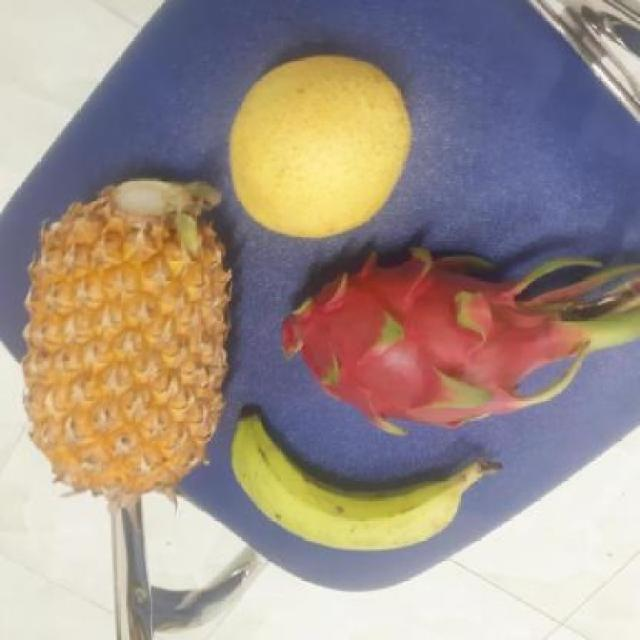banana: (229, 416, 473, 553)
dragon fruit: (256, 248, 558, 431)
pear: (227, 55, 416, 240)
pineapple: (22, 171, 236, 492)
